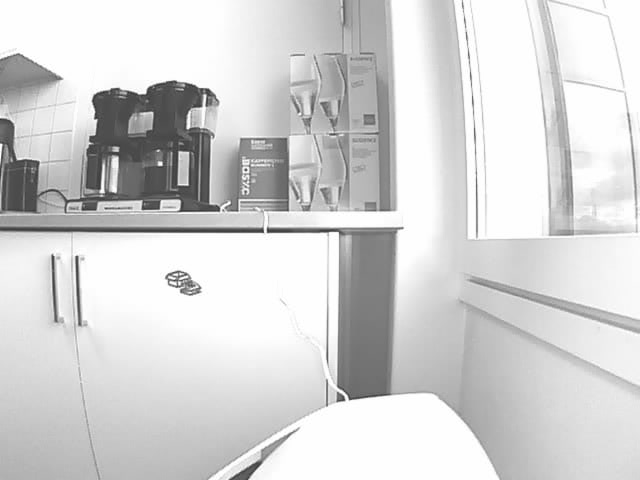empty coffee: (82, 145, 133, 197)
not empty coffee: (141, 147, 197, 198)
